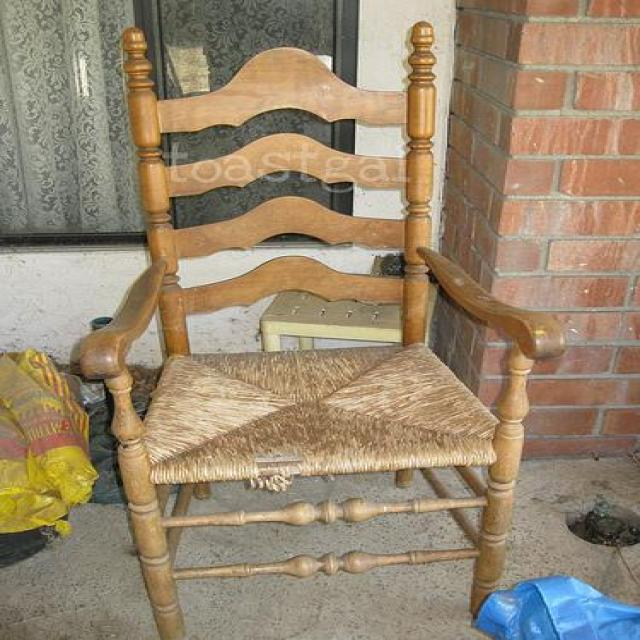chair: (79, 21, 572, 640)
